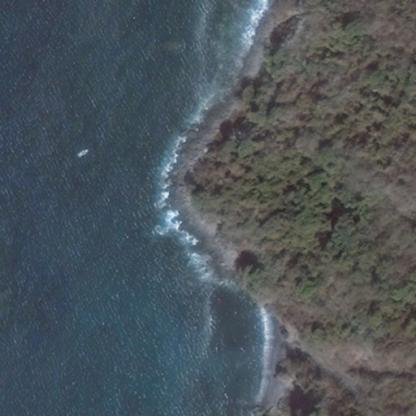ship: (73, 143, 92, 160)
